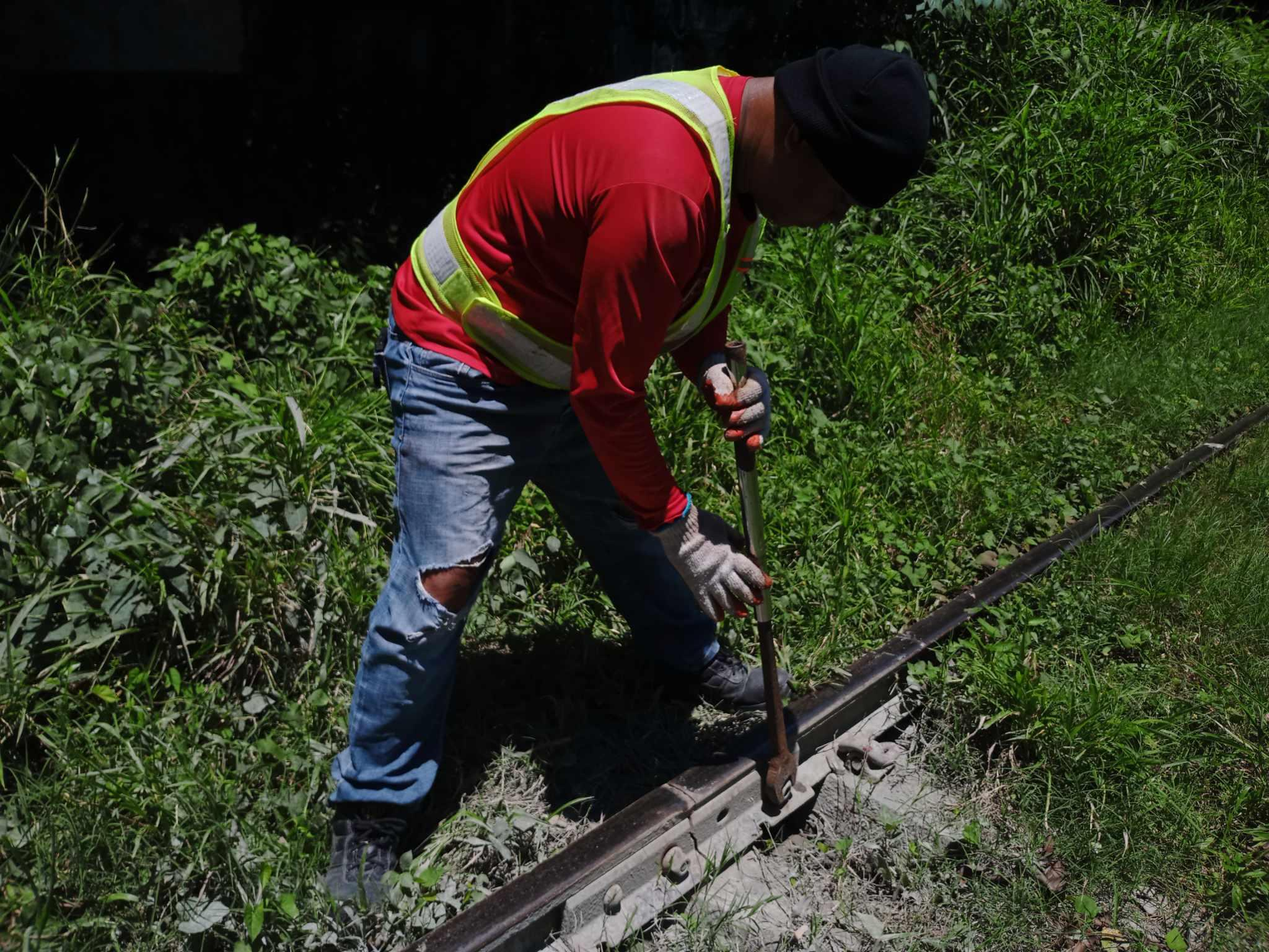railway-gap: (629, 747, 723, 844)
